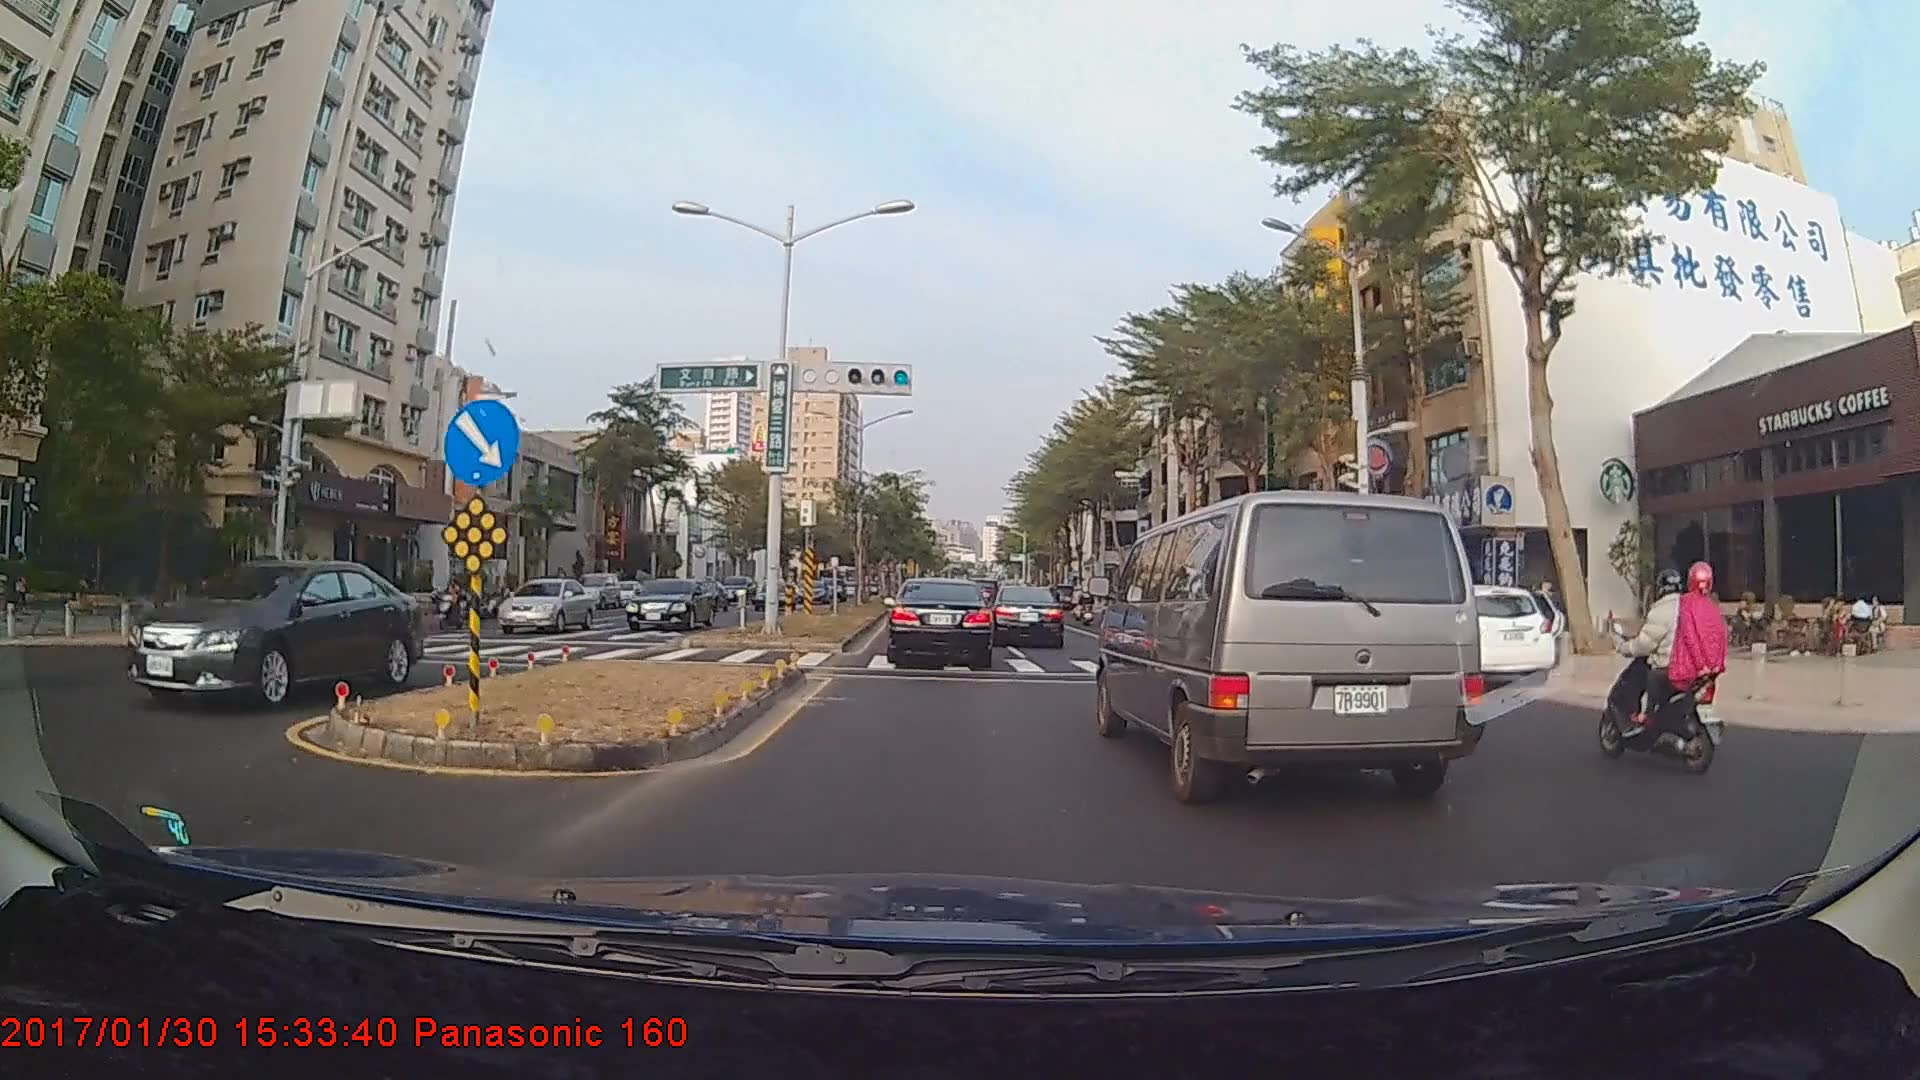rider: (1591, 555, 1736, 764), (431, 578, 473, 634)
vehicle: (1103, 480, 1480, 800), (119, 556, 422, 709), (1424, 580, 1548, 681), (886, 577, 994, 668), (496, 578, 596, 633), (625, 574, 716, 632), (991, 584, 1065, 648), (577, 572, 624, 611)
